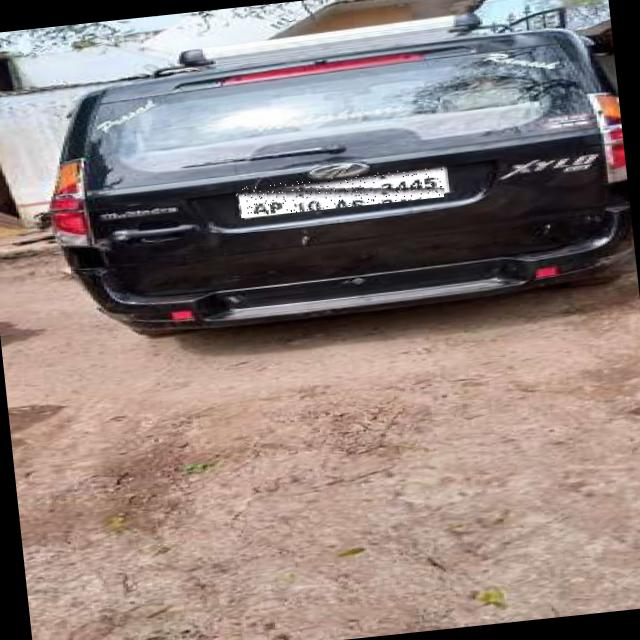Plate: (233, 167, 446, 220)
